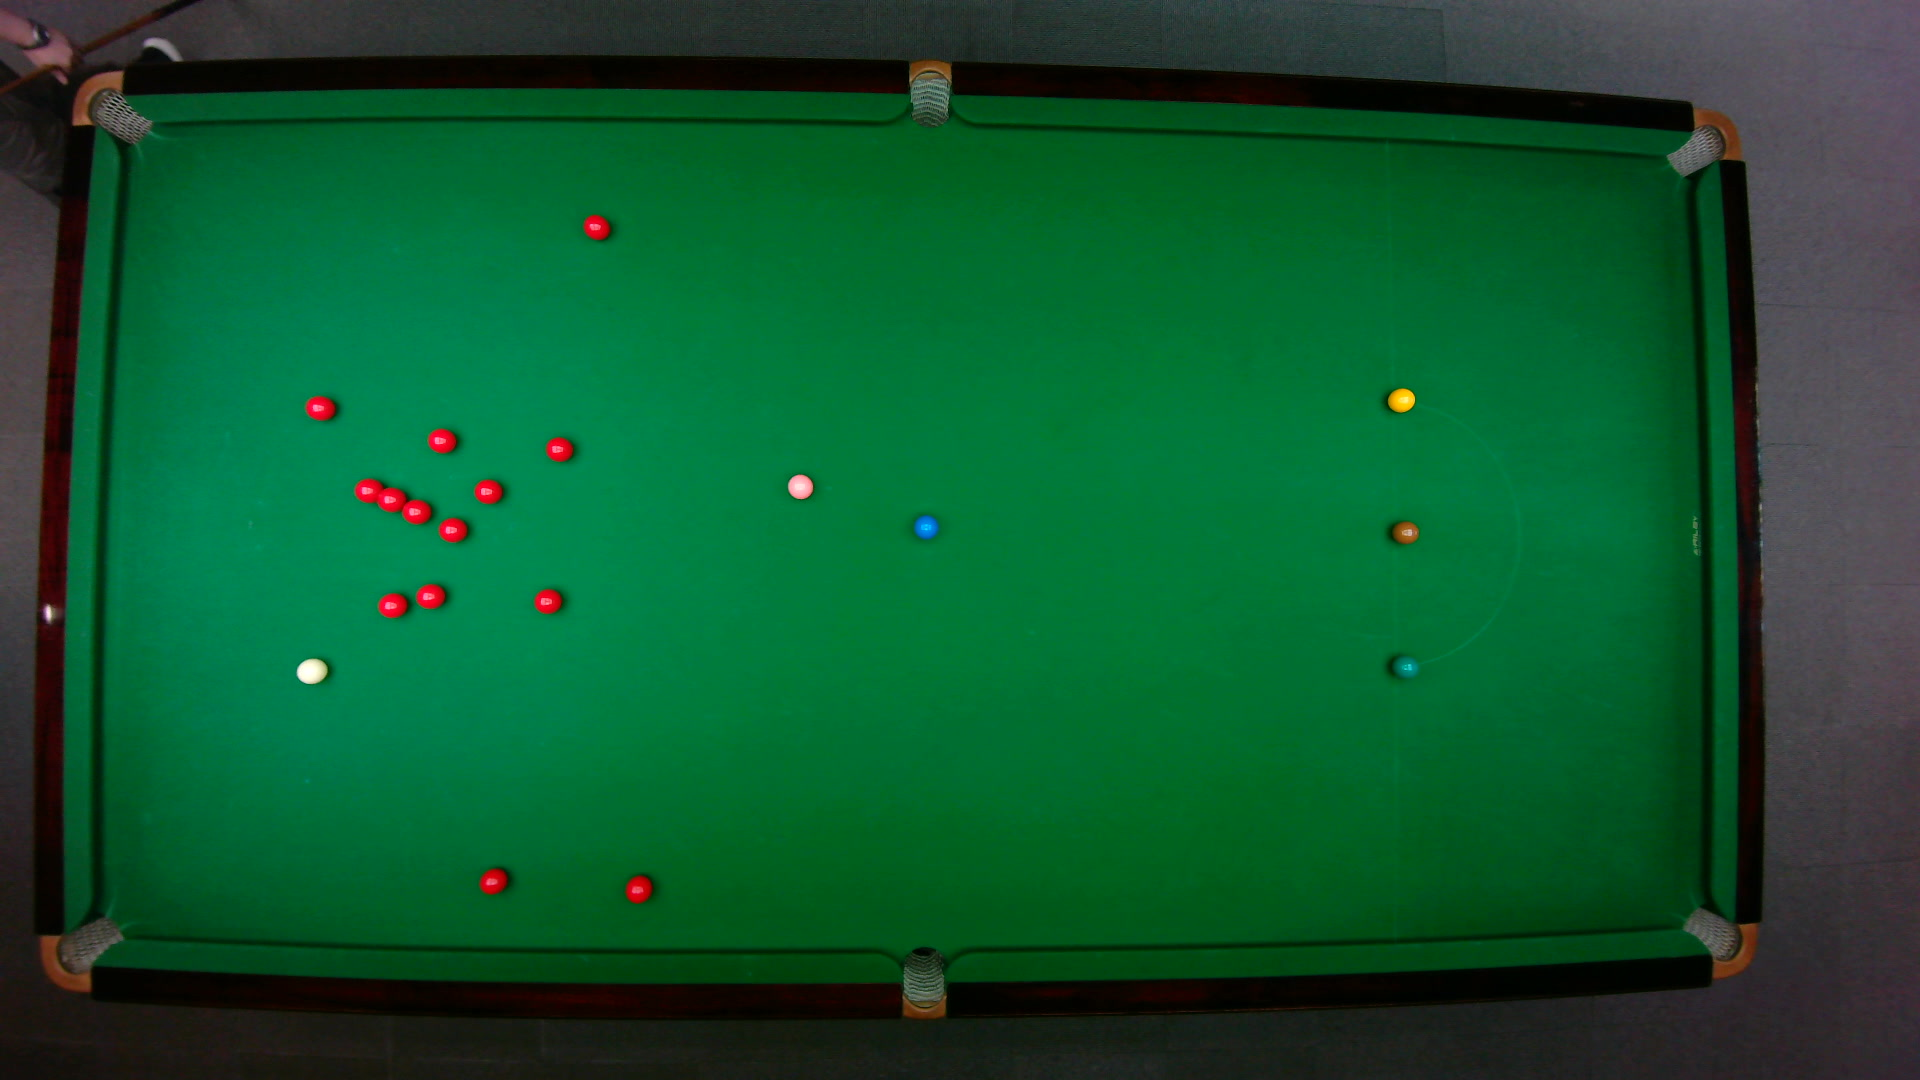bag: (38, 914, 125, 992), (70, 69, 153, 145), (1679, 905, 1756, 978), (1663, 107, 1741, 178), (901, 944, 944, 1021), (909, 57, 949, 128)
blue: (913, 513, 938, 539)
brown: (1390, 520, 1419, 545)
green: (1389, 651, 1419, 679)
pink: (785, 472, 814, 500)
red: (477, 865, 508, 895), (622, 873, 653, 903), (531, 585, 563, 615), (375, 591, 407, 618), (413, 582, 446, 609), (400, 496, 431, 524), (303, 394, 336, 421), (436, 516, 468, 542), (426, 427, 458, 454), (582, 212, 611, 240), (376, 484, 405, 512), (352, 476, 382, 502), (545, 435, 574, 462), (472, 477, 502, 502)
white: (293, 655, 328, 684)
yellow: (1385, 385, 1416, 413)
zone: (1389, 400, 1520, 666)
